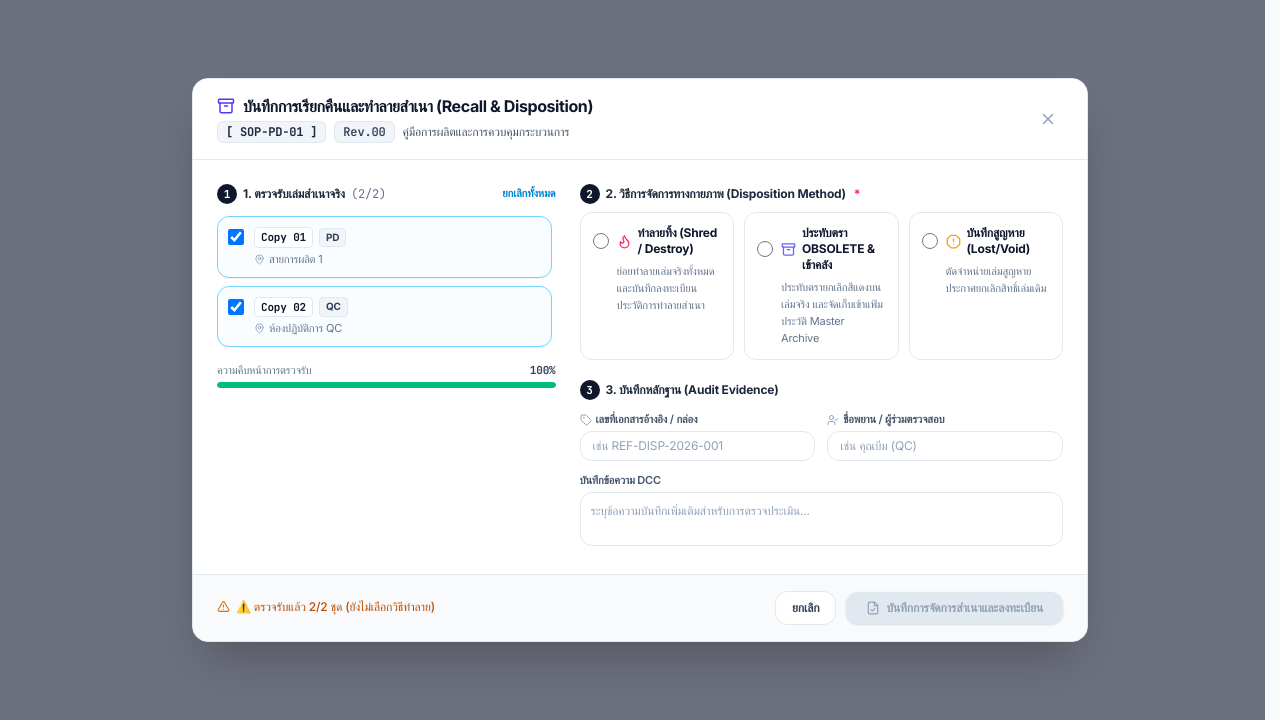
Scenario: DccRecallActionModal High-Efficiency Two-Column Layout Verification › 5. Lost & Voided: renders option 3, updates placeholders, auto-fills notes, and displays bypass badge
This screenshot has width=1280, height=720.
Expected: the text "ตัดจำหน่ายเล่มสูญหาย ประกาศยกเลิกสิทธิ์เล่มเดิม" is shown, [946,264,1046,295]
Select Lost & Voided
Click the radio button labelled "บันทึกสูญหาย (Lost/Void)".
click(930, 241)  # box [922,233,938,249]
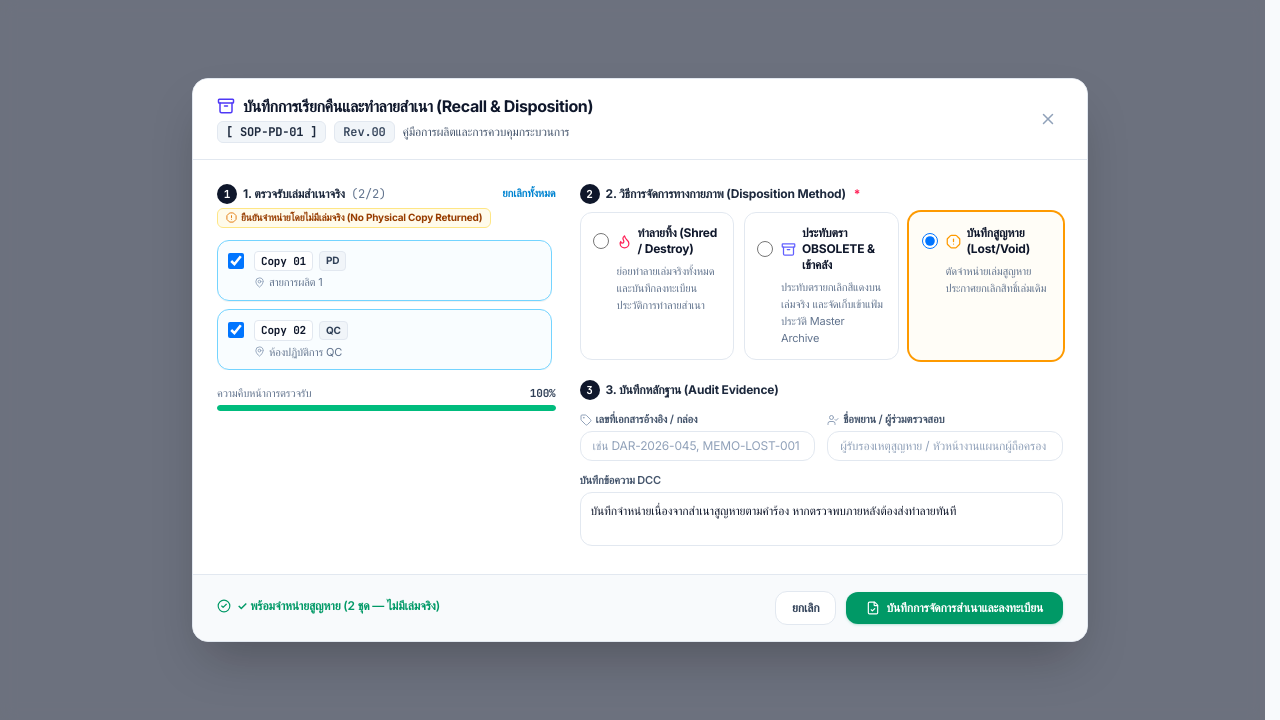
Expected: the text "ยืนยันจำหน่ายโดยไม่มีเล่มจริง (No Physical Copy Returned)" is shown, [241,211,482,225]
Expected: the field with placeholder "เช่น DAR-2026-045, MEMO-LOST-001" is shown, [580,431,815,461]
Expected: the field with placeholder "ผู้รับรองเหตุสูญหาย / หัวหน้างานแผนกผู้ถือครอง" is shown, [827,431,1063,461]
